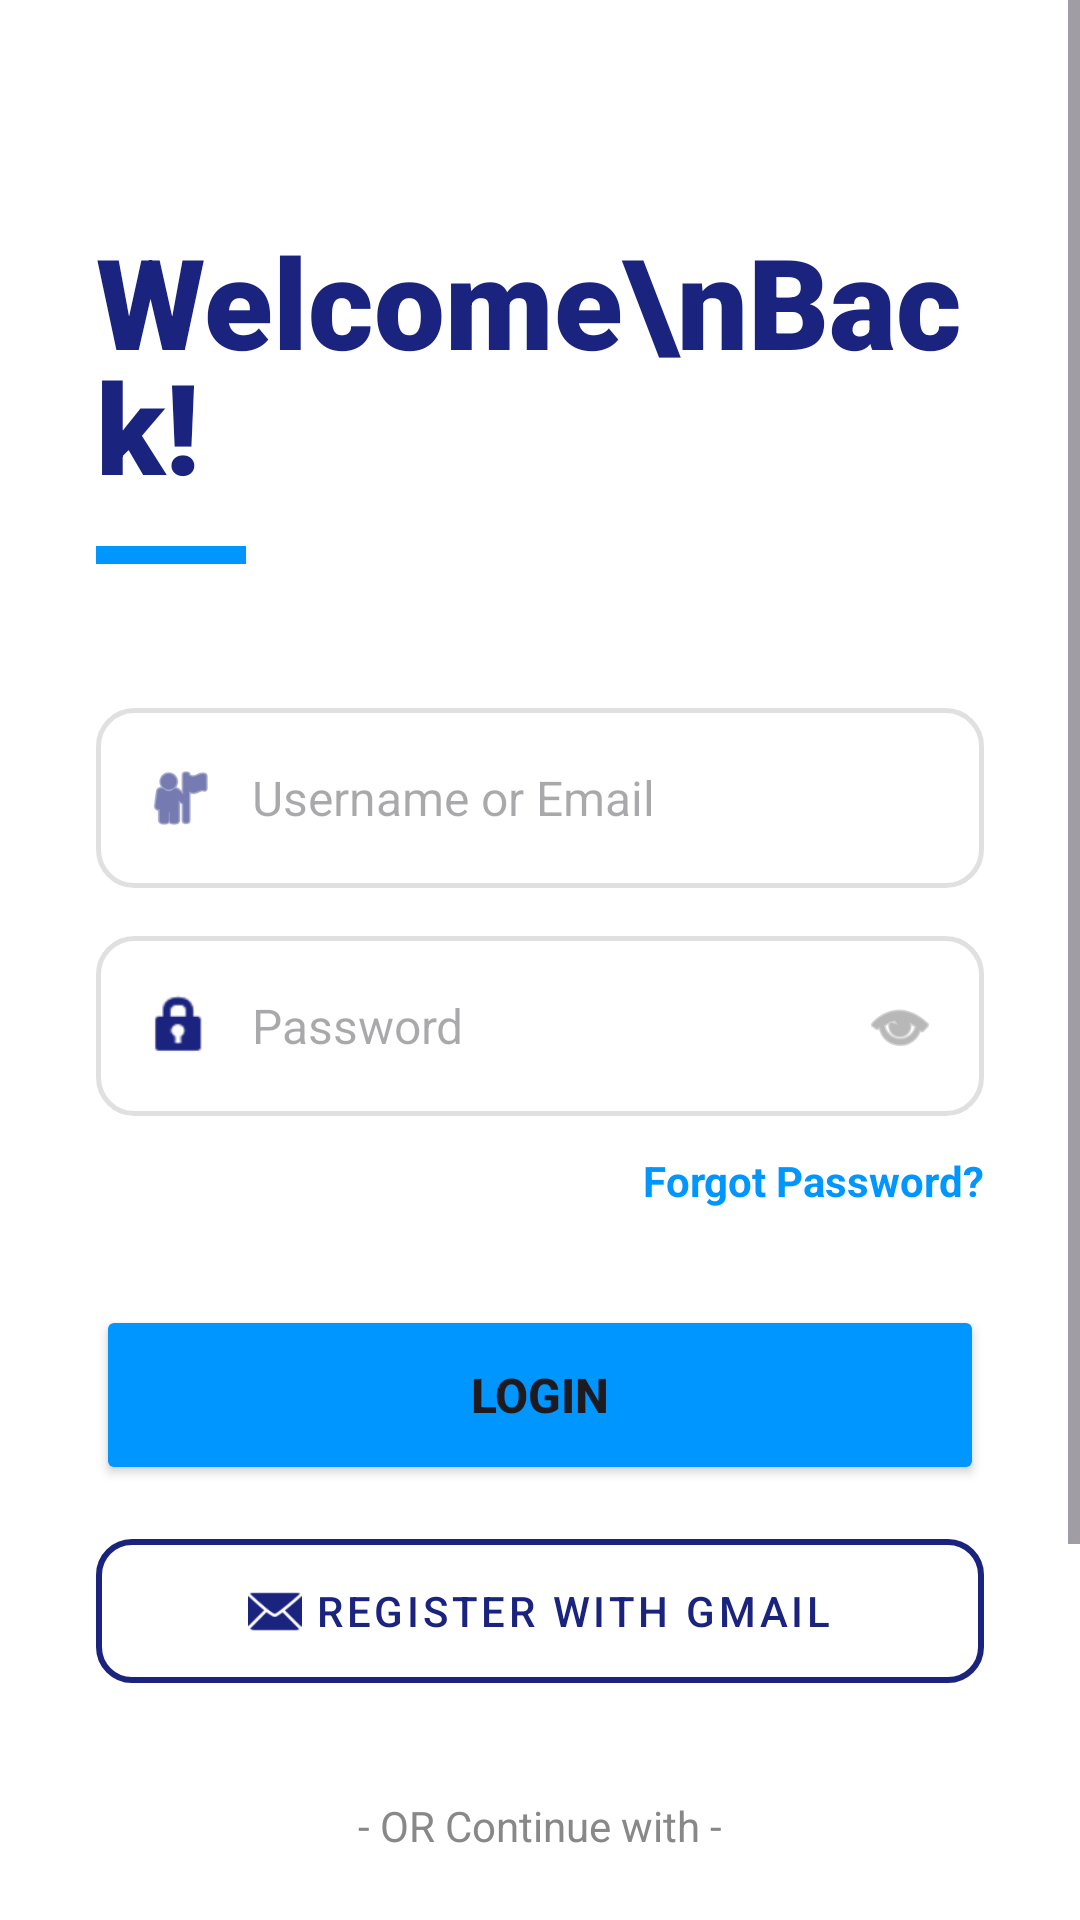

Locate icon controls on the screen. Image size 1080 x 1920, boxes as (x1, y1, x2, y2).
lock idle: (155, 996, 202, 1051)
myplaces: (154, 771, 208, 825)
view: (871, 1010, 929, 1046)
